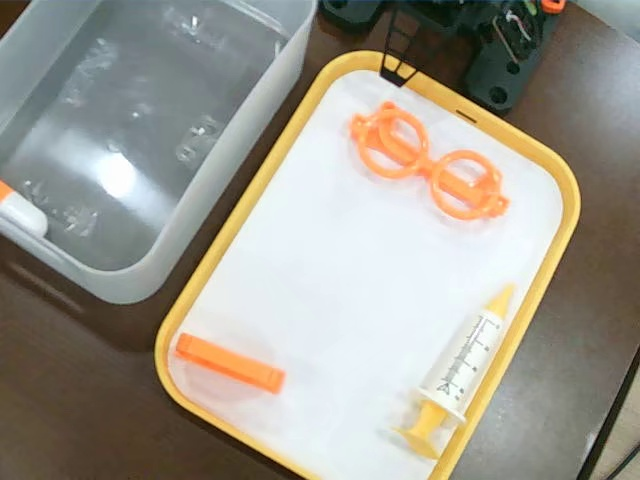pill: (0, 177, 48, 234)
syringe: (392, 283, 519, 455)
